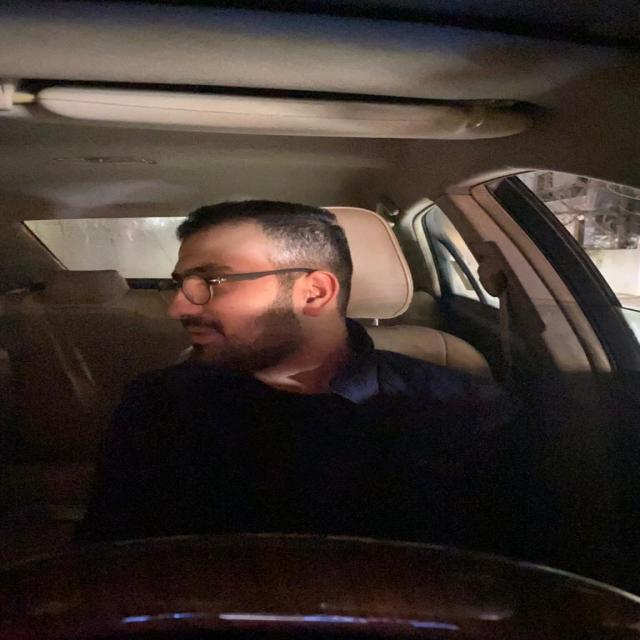LeftRight: (162, 194, 358, 375)
